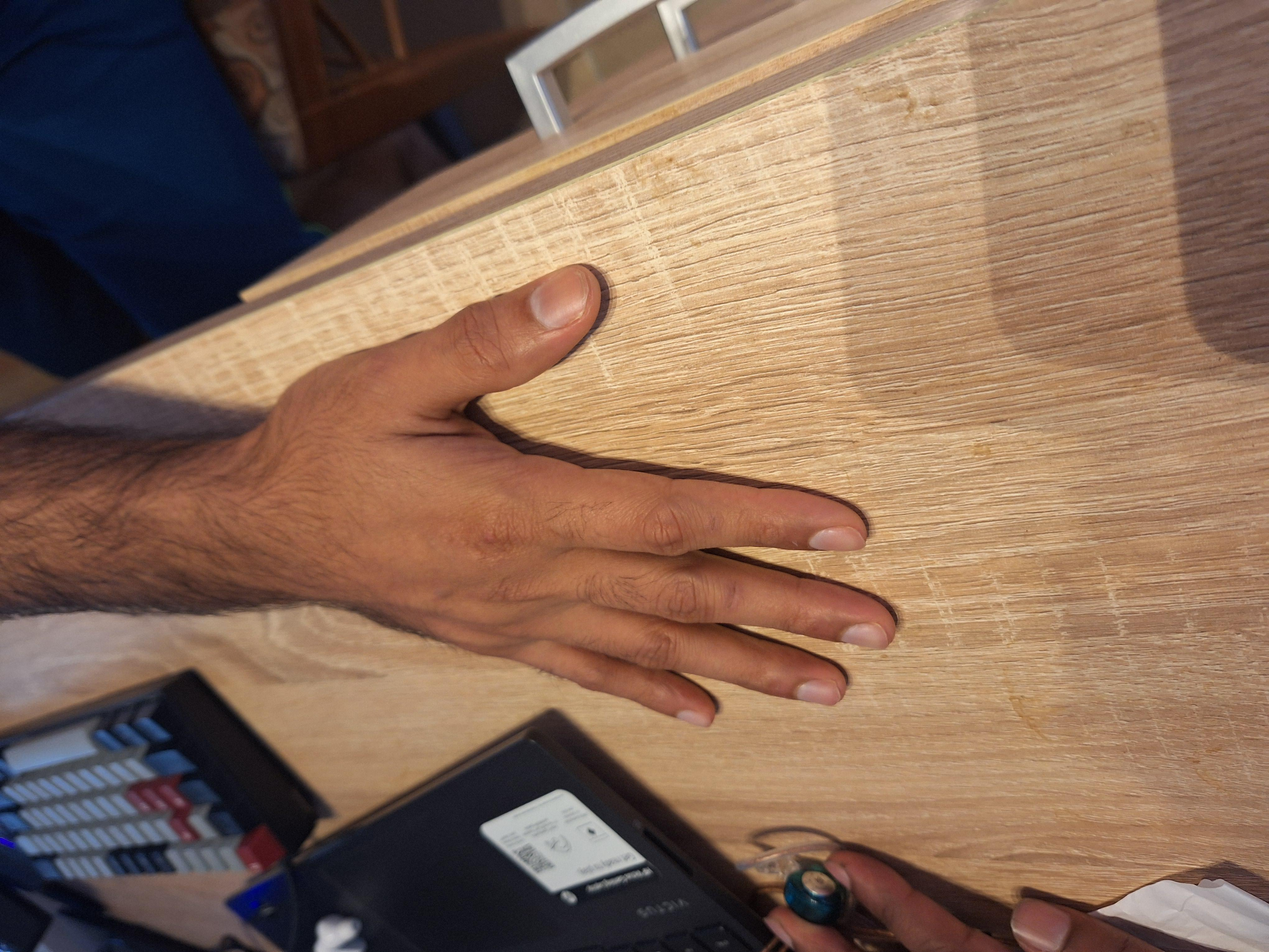Fingernail: (531, 267, 589, 329), (1010, 898, 1070, 951), (809, 526, 866, 551), (841, 623, 888, 650), (797, 679, 841, 707), (677, 710, 707, 728)
